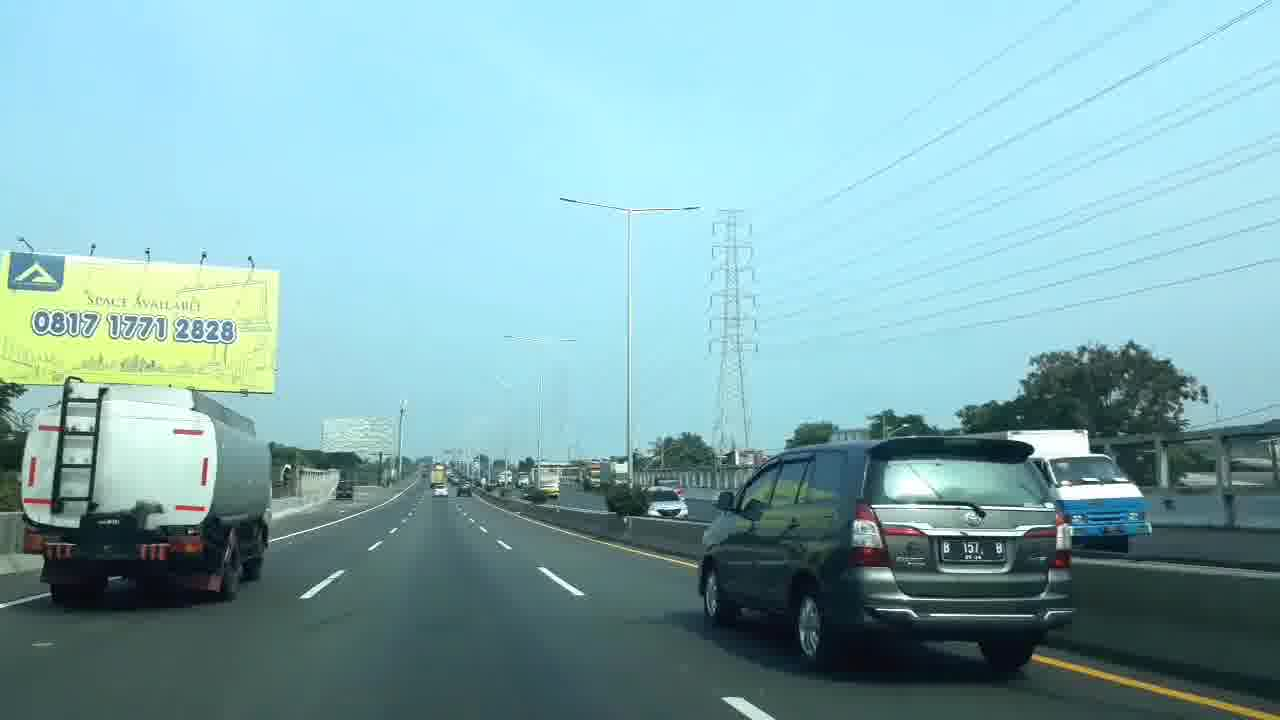plate_positive: (939, 536, 1009, 565)
